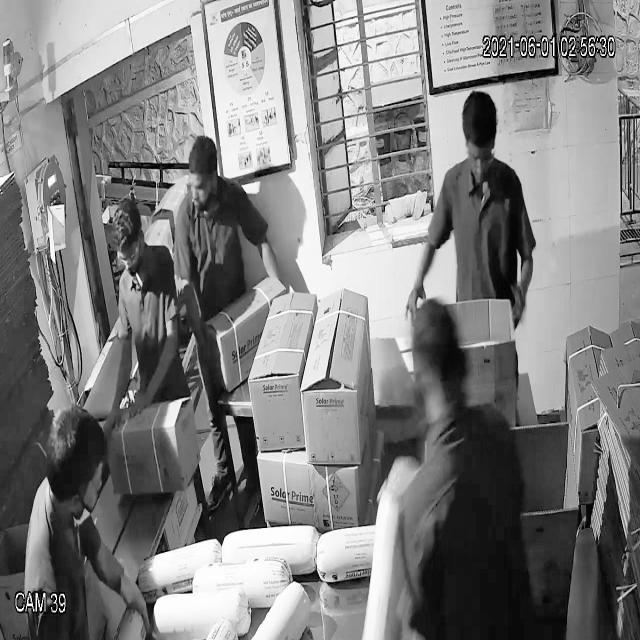glasses: (109, 233, 148, 275)
